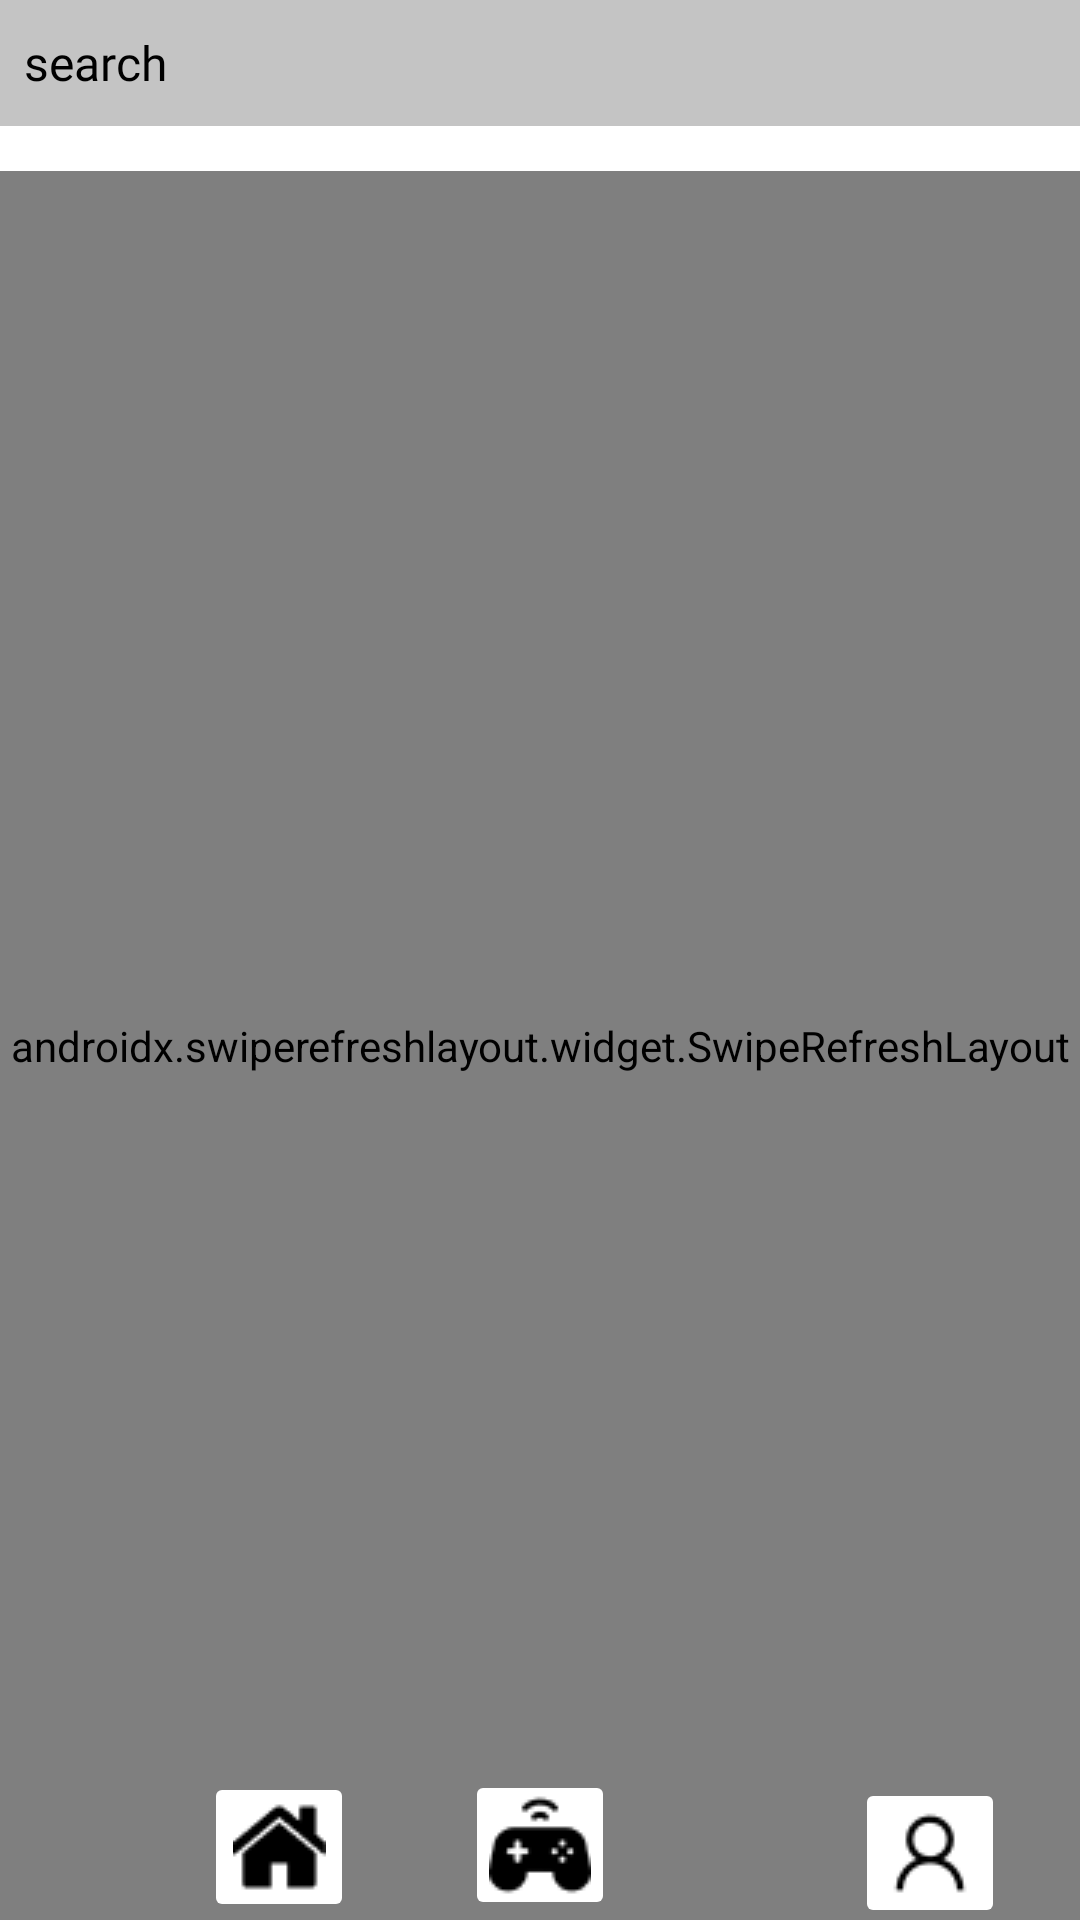

Where to tap for icons on this 1080 × 1920 app screen, as [x,y]:
home: [279,1847]
user: [930,1853]
